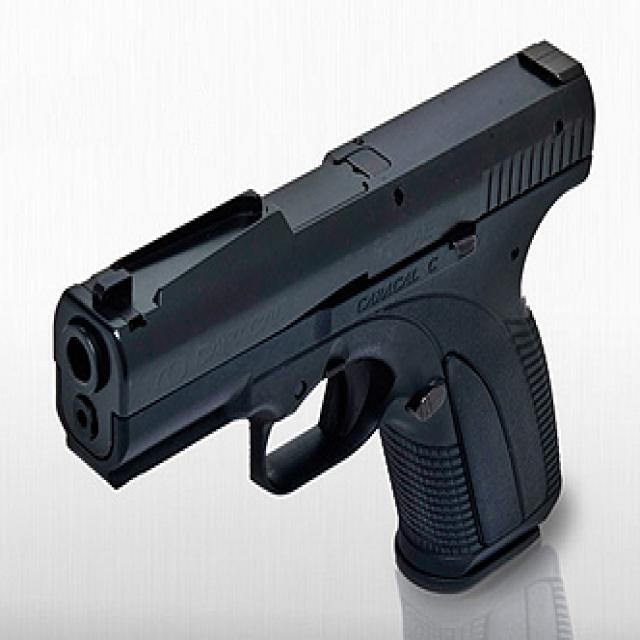Gun: (50, 39, 606, 624)
